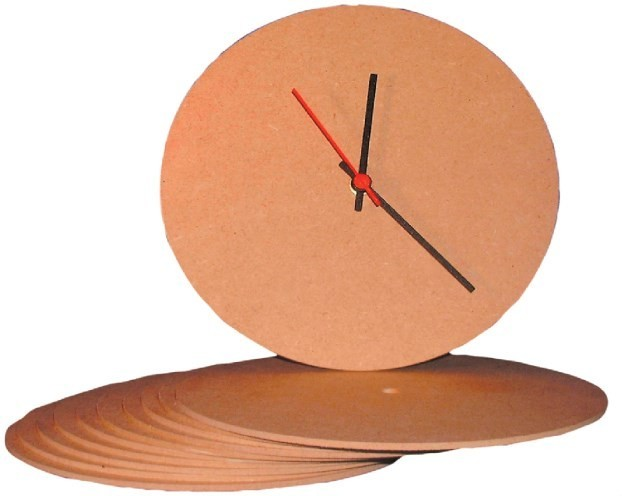clock: (161, 5, 561, 370)
